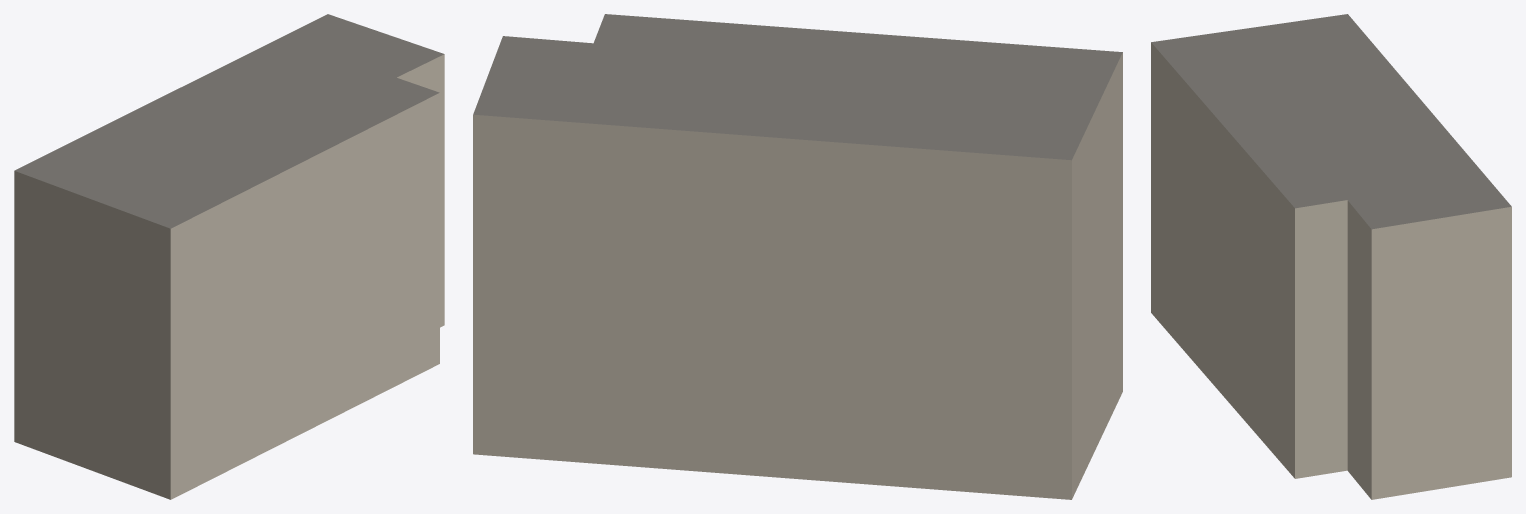
3 renders of one model, left to right at view 1: azimuth 30°, elevation 25°; view 2: azimuth 150°, elevation 25°; view 3: azimuth 270°, elevation 25°, orthographic. The views are drawn at different scales.
Parts seen in each view (by area): view 1: HP-w446934368; view 2: HP-w446934368; view 3: HP-w446934368.
Boxes of the visible parts, box(x1,y1,x2,y2) form: HP-w446934368: box(14, 14, 444, 499); HP-w446934368: box(473, 14, 1122, 499); HP-w446934368: box(1151, 14, 1511, 499).
Bounding box in the file's own units: 30.72 × 18 × 21.75.
